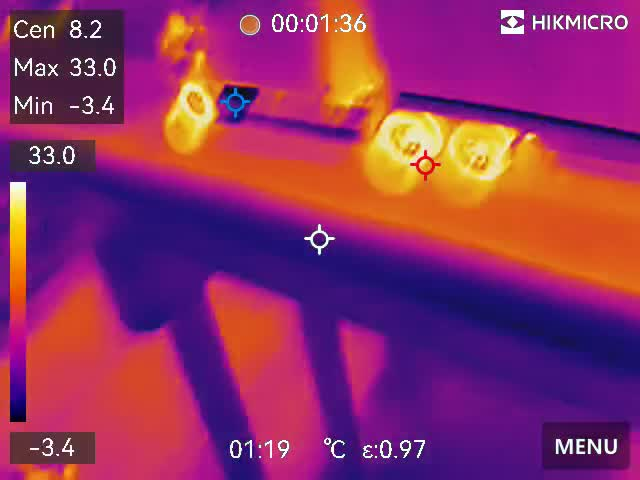heavyTruck: (185, 7, 640, 216)
